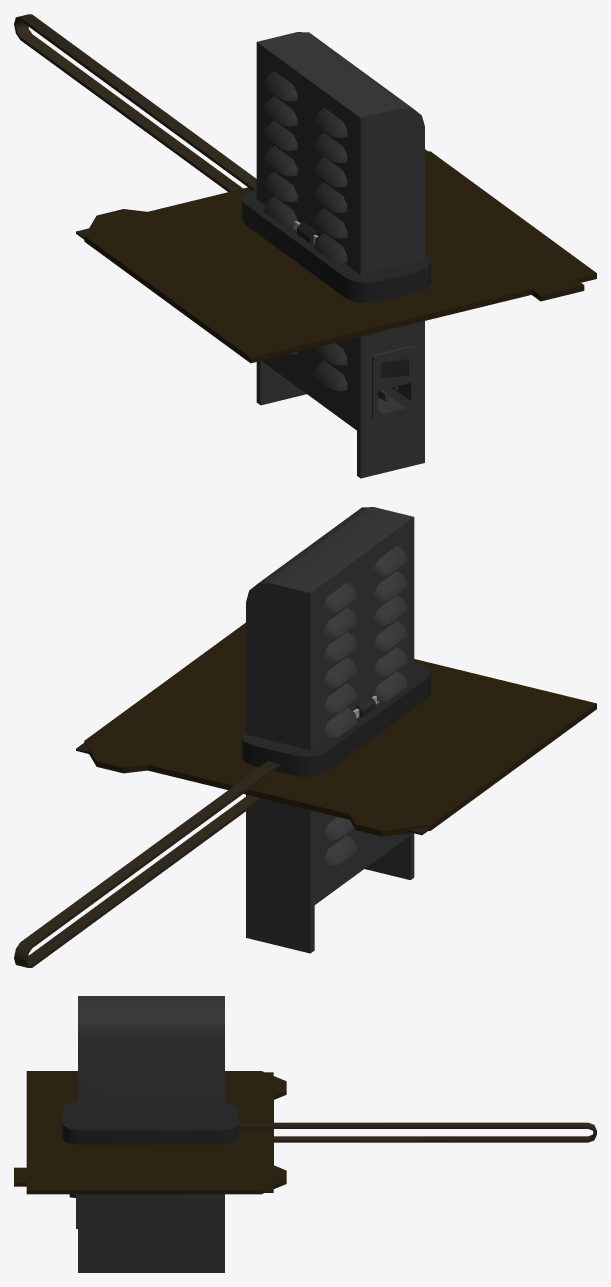
File: Prusa_MK4S_parts.fbx
The picture shows the model from 3 angles, top to bottom: view 1: azimuth 30°, elevation 25°; view 2: azimuth 150°, elevation 25°; view 3: azimuth 270°, elevation 25°; orthographic projection. The views are drawn at different scales.
Parts seen in each view (by area): view 1: Prusa_MK4S_battery_closet_part, Prusa_MK4S_print_bed_part, Prusa_MK4S_axis_belt_part, Prusa_MK4S_battery_closet_adapter_part; view 2: Prusa_MK4S_battery_closet_part, Prusa_MK4S_print_bed_part, Prusa_MK4S_axis_belt_part, Prusa_MK4S_battery_closet_adapter_part; view 3: Prusa_MK4S_battery_closet_part, Prusa_MK4S_print_bed_part, Prusa_MK4S_axis_belt_part, Prusa_MK4S_battery_closet_adapter_part.
Boxes of the visible parts, x1,y1,x2,y2 form: Prusa_MK4S_battery_closet_part: [256, 32, 424, 478]; Prusa_MK4S_print_bed_part: [84, 151, 596, 363]; Prusa_MK4S_axis_belt_part: [14, 14, 256, 191]; Prusa_MK4S_battery_closet_adapter_part: [241, 189, 430, 303]; Prusa_MK4S_battery_closet_part: [246, 507, 414, 953]; Prusa_MK4S_print_bed_part: [84, 622, 596, 836]; Prusa_MK4S_axis_belt_part: [14, 761, 279, 967]; Prusa_MK4S_battery_closet_adapter_part: [241, 663, 430, 777]; Prusa_MK4S_battery_closet_part: [76, 996, 224, 1272]; Prusa_MK4S_print_bed_part: [14, 1071, 286, 1194]; Prusa_MK4S_axis_belt_part: [238, 1122, 596, 1142]; Prusa_MK4S_battery_closet_adapter_part: [62, 1102, 238, 1144].
Size of the model in its own units: 0.2564 by 0.5296 by 0.2551.
